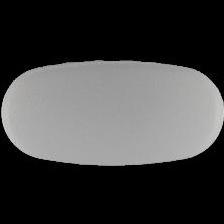50268-307: (0, 0, 224, 224)
